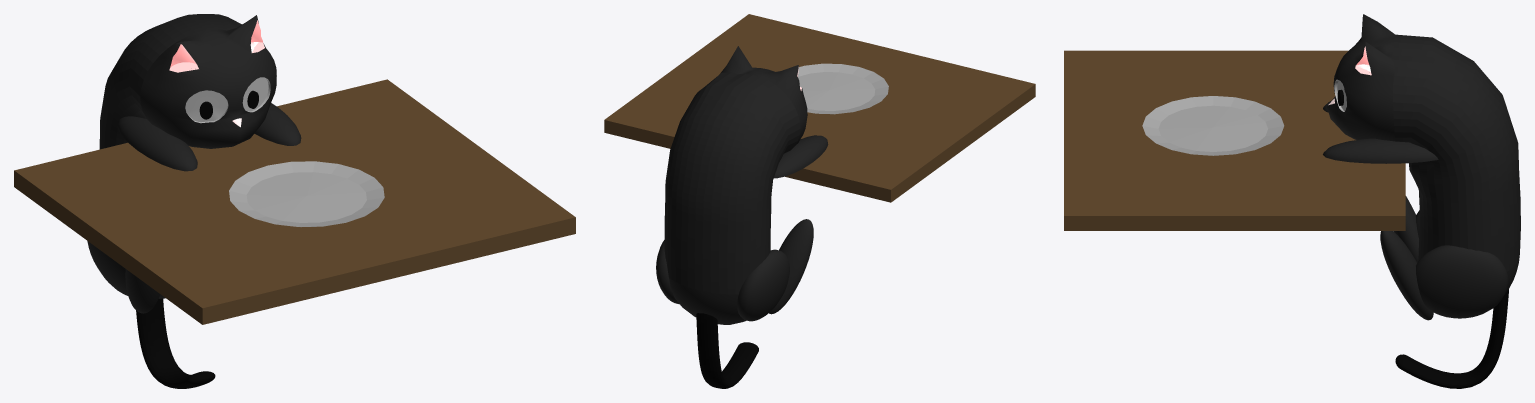
Rendered from cattable.glb.
The picture shows the model from 3 angles, left to right: view 1: azimuth 30°, elevation 25°; view 2: azimuth 150°, elevation 25°; view 3: azimuth 270°, elevation 25°; orthographic projection. The views are drawn at different scales.
Visible parts, largest first — view 1: pCube1, polySurface4, pCylinder3, pSphere3, pSphere1, pSphere6, pSphere2; view 2: pCube1, polySurface4, pSphere6, pCylinder3, pSphere3, pSphere1, pSphere7; view 3: pCube1, polySurface4, pSphere7, pCylinder3, pSphere3, pSphere2, pSphere6.
Part boxes in pixels (x1,y1,x2,y2): pCube1: [14, 79, 575, 324]; polySurface4: [99, 14, 276, 298]; pCylinder3: [229, 161, 384, 227]; pSphere3: [136, 298, 215, 388]; pSphere1: [117, 116, 197, 171]; pSphere6: [87, 241, 160, 313]; pSphere2: [254, 103, 301, 145]; pCube1: [604, 14, 1035, 202]; polySurface4: [664, 46, 807, 324]; pSphere6: [737, 219, 813, 321]; pCylinder3: [798, 63, 888, 114]; pSphere3: [696, 313, 758, 388]; pSphere1: [774, 135, 828, 178]; pSphere7: [656, 240, 679, 304]; pCube1: [1064, 50, 1405, 230]; polySurface4: [1327, 14, 1520, 294]; pSphere7: [1380, 231, 1508, 320]; pCylinder3: [1142, 96, 1284, 155]; pSphere3: [1395, 289, 1508, 388]; pSphere2: [1323, 138, 1438, 163]; pSphere6: [1393, 196, 1419, 262].
Size of the model in its own units: 0.0386 by 0.0392 by 0.0451.
